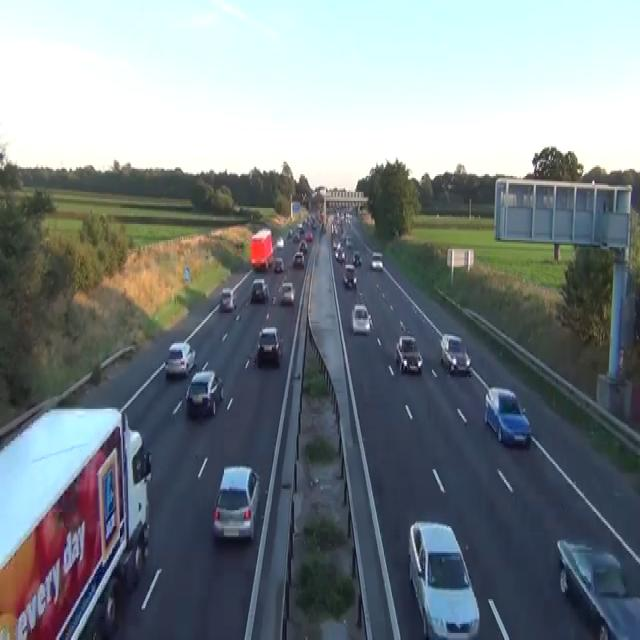Car: (280, 489, 368, 638), (408, 519, 480, 638), (556, 539, 639, 638), (212, 464, 260, 542), (483, 386, 531, 446), (185, 370, 224, 418), (439, 332, 471, 373), (164, 341, 196, 377), (395, 334, 423, 374), (256, 326, 283, 364), (351, 304, 372, 334), (250, 278, 269, 302), (342, 263, 357, 288), (220, 288, 236, 311), (278, 281, 294, 304), (370, 251, 383, 270), (292, 250, 304, 266), (274, 256, 284, 272), (335, 246, 345, 262), (598, 624, 609, 638), (353, 251, 361, 265), (332, 238, 340, 251), (276, 235, 284, 247), (299, 240, 307, 252), (305, 231, 313, 242), (292, 231, 300, 242), (296, 224, 304, 233), (318, 210, 323, 222), (346, 237, 352, 247), (287, 228, 293, 238), (311, 220, 316, 228), (272, 295, 276, 304)
Truck: (0, 406, 152, 638), (249, 228, 273, 270)
